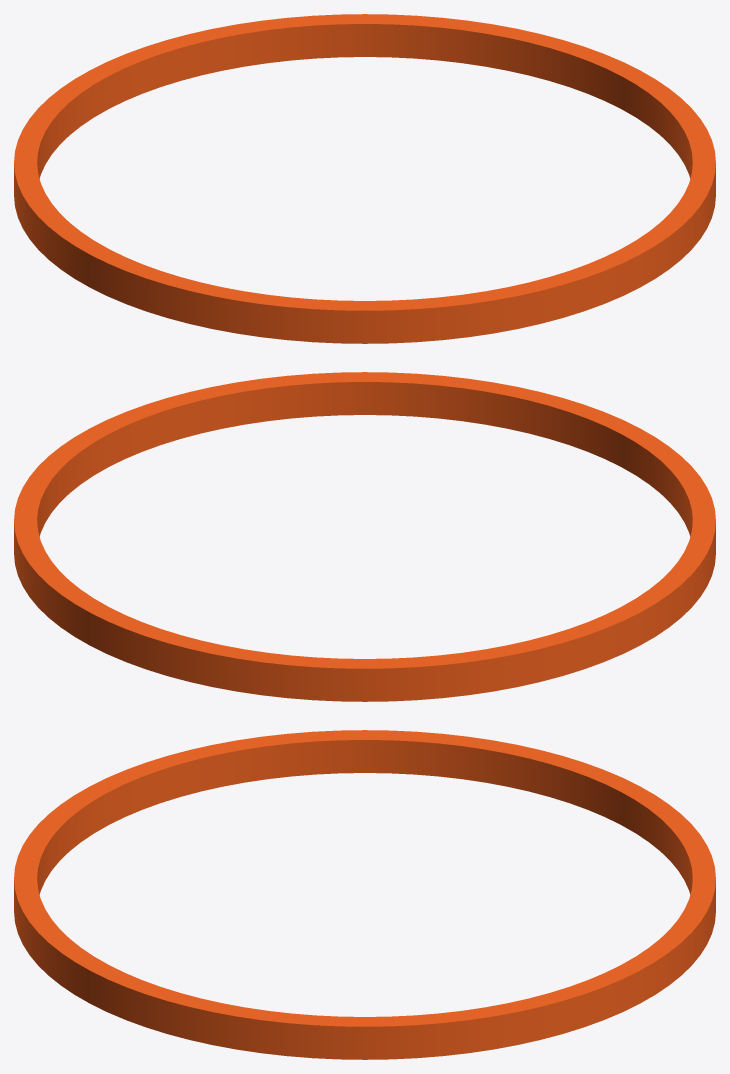
The picture shows the model from 3 angles, top to bottom: view 1: azimuth 30°, elevation 25°; view 2: azimuth 150°, elevation 25°; view 3: azimuth 270°, elevation 25°; orthographic projection.
Parts seen in each view (by area): view 1: 228-2500-468; view 2: 228-2500-468; view 3: 228-2500-468.
Part boxes in pixels (<box>): 228-2500-468: <box>14,14,715,343</box>; 228-2500-468: <box>14,372,715,701</box>; 228-2500-468: <box>14,730,715,1059</box>.
Bounding box in the file's own units: 0.0606 × 0.00315 × 0.0606.
